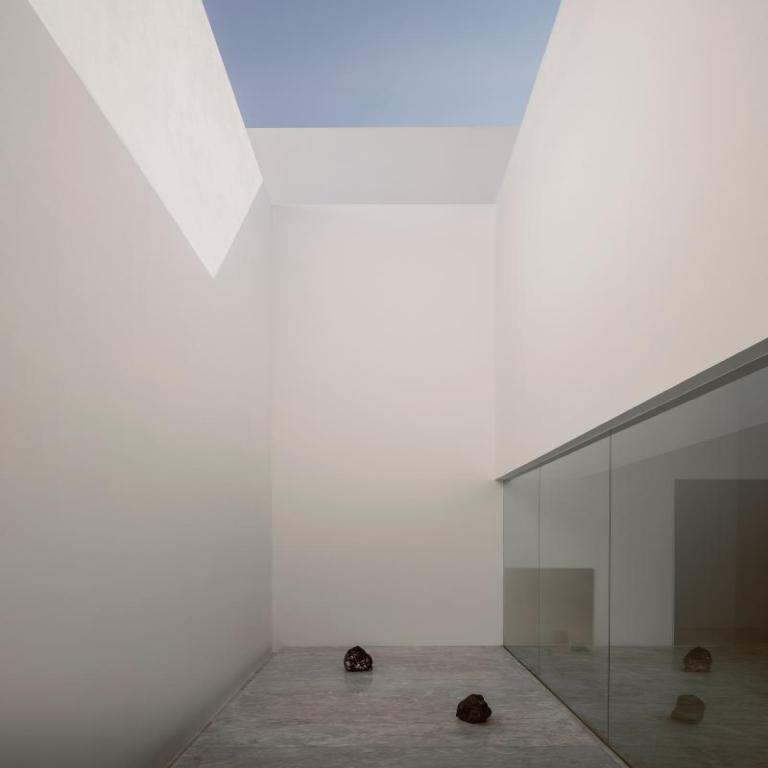white-walls: (91, 26, 736, 726)
